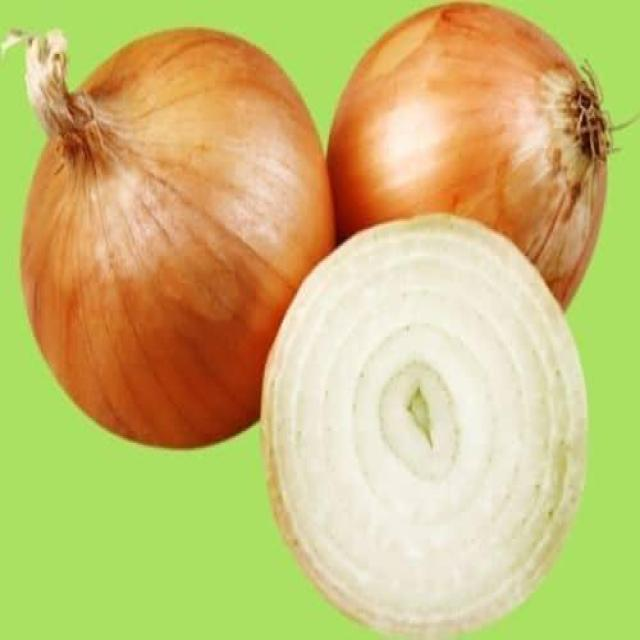Onion: (1, 27, 334, 450), (262, 212, 590, 640), (326, 0, 640, 315)
